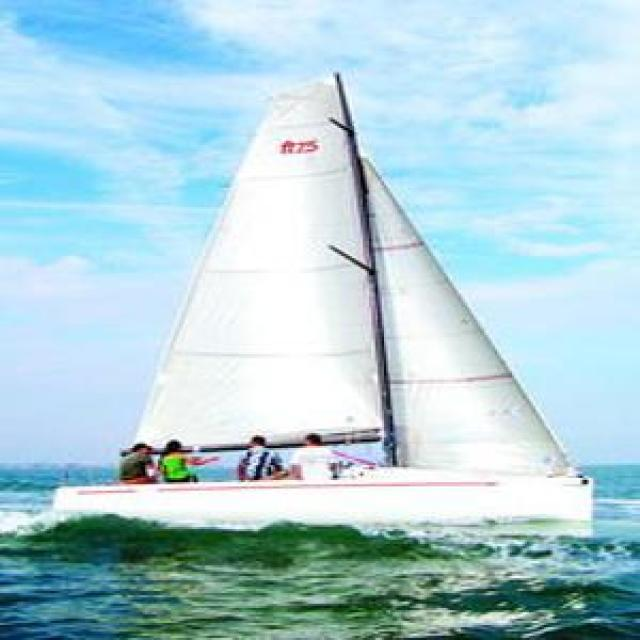sailboat: (53, 72, 600, 528)
